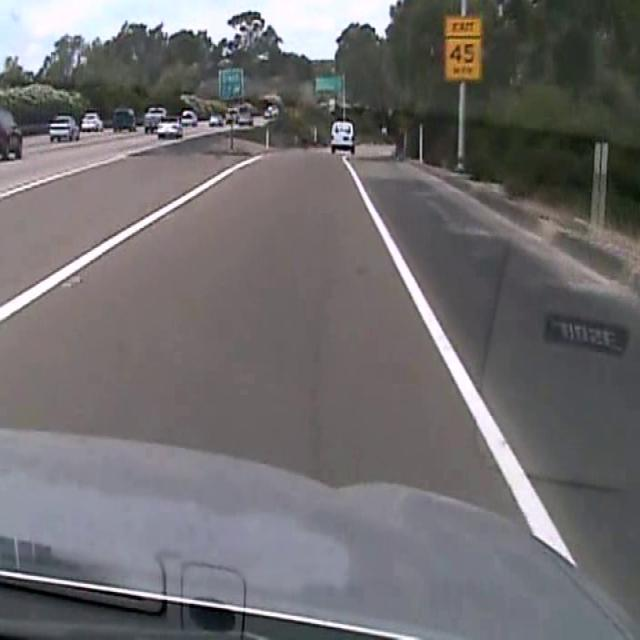speedLimit45: (442, 12, 482, 81)
